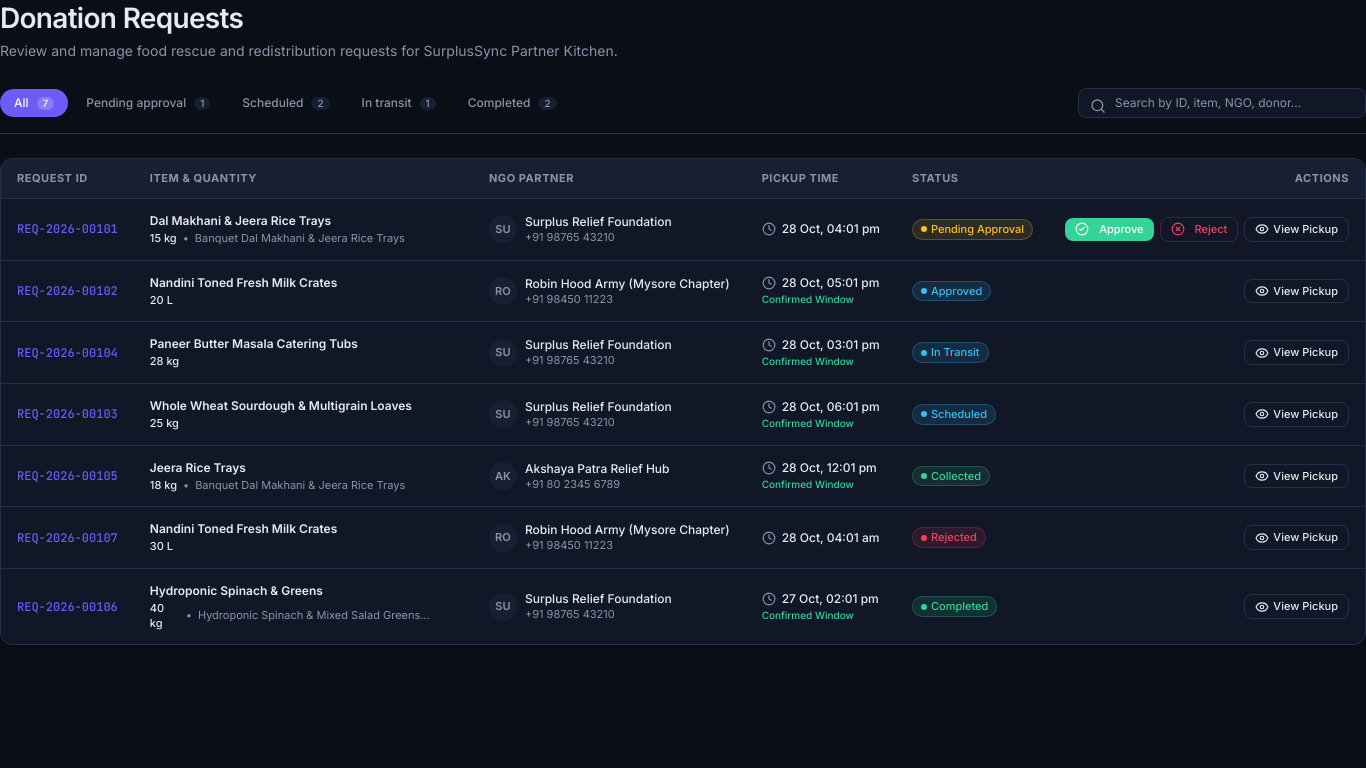
Test: Redistribution Frontend Pages Suite › DonationRequestsPage › opens View Pickup modal when View Pickup button is clicked
Expected: the text "REQ-2026-00101" is shown, [1,198,134,260]
Click the button "View Pickup" in the row of "REQ-2026-00101": x=1297, y=229 [1244,217,1349,242]
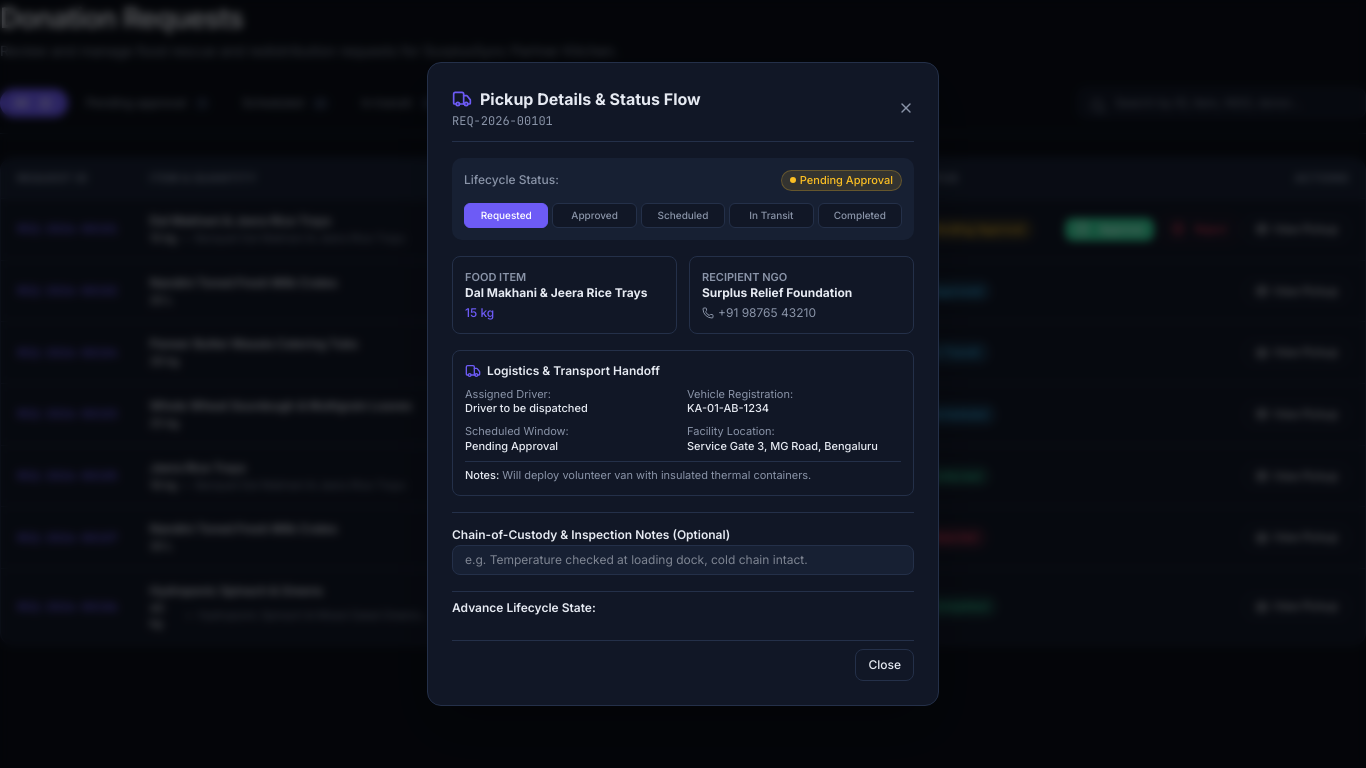
Expected: the heading "Pickup Details & Status Flow" is shown, [480,87,701,111]
